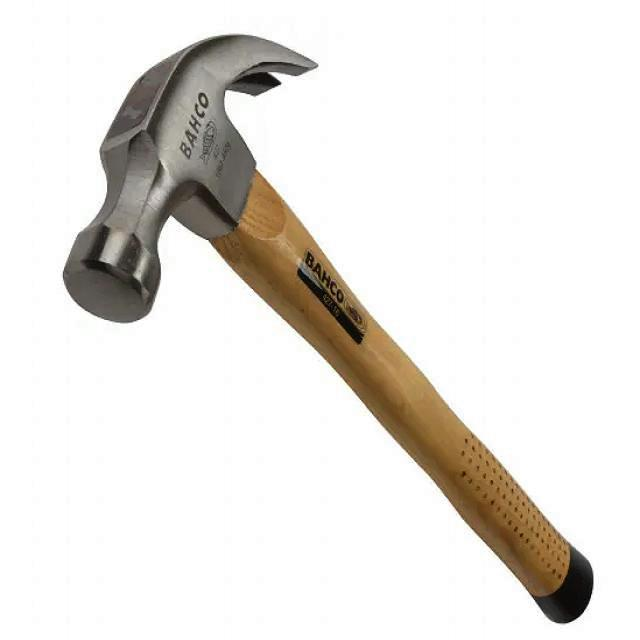hammer: (58, 30, 596, 629)
